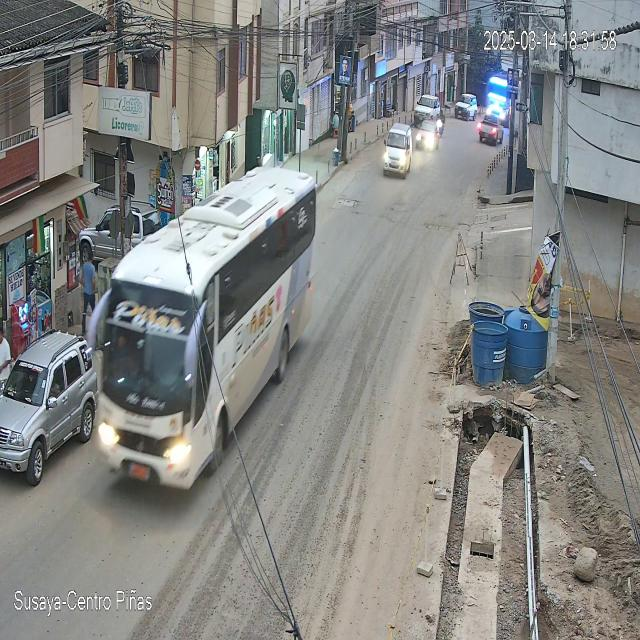BUS: (88, 168, 318, 492)
